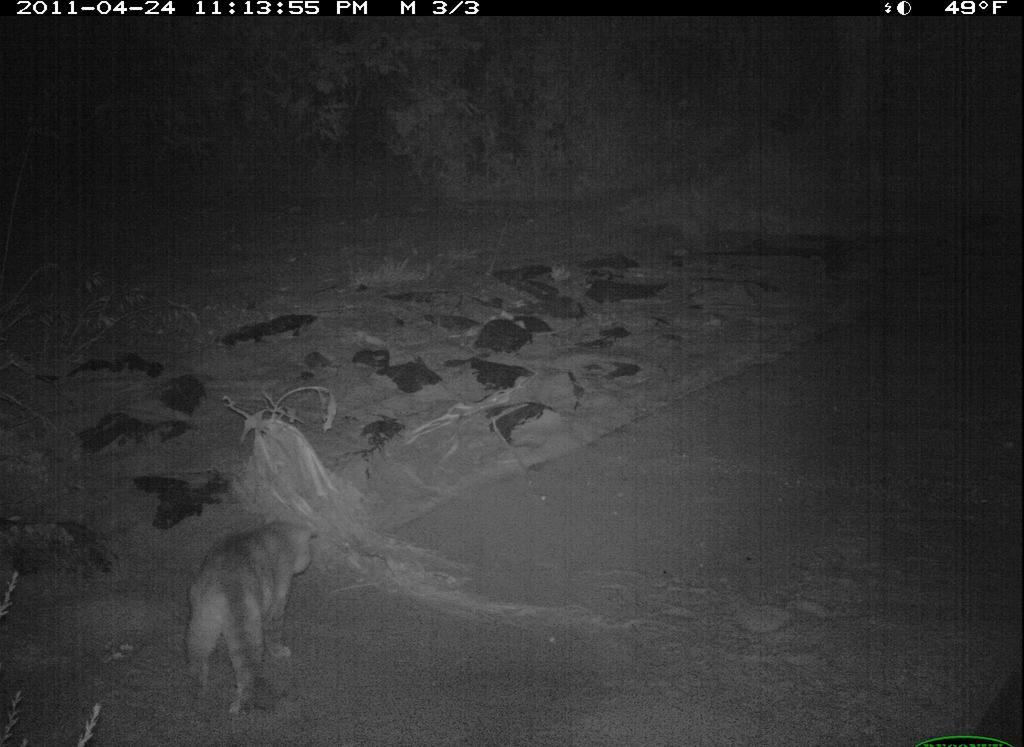cat: (181, 516, 323, 720)
